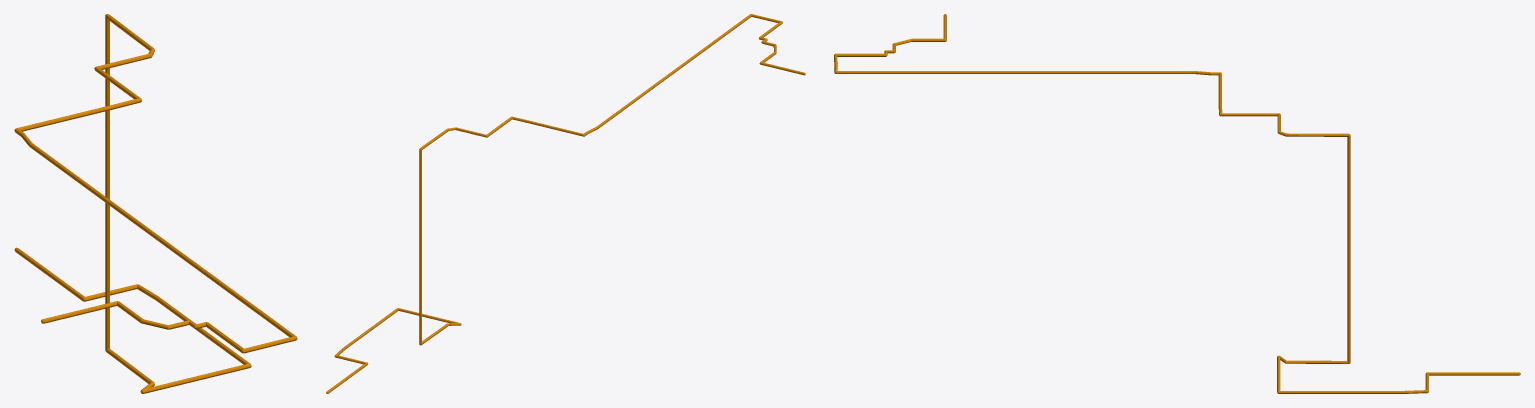
The picture shows the model from 3 angles, left to right: view 1: azimuth 30°, elevation 25°; view 2: azimuth 150°, elevation 25°; view 3: azimuth 270°, elevation 25°; orthographic projection. The views are drawn at different scales.
Bounding box in the file's own units: 2141 × 1520 × 4112.
